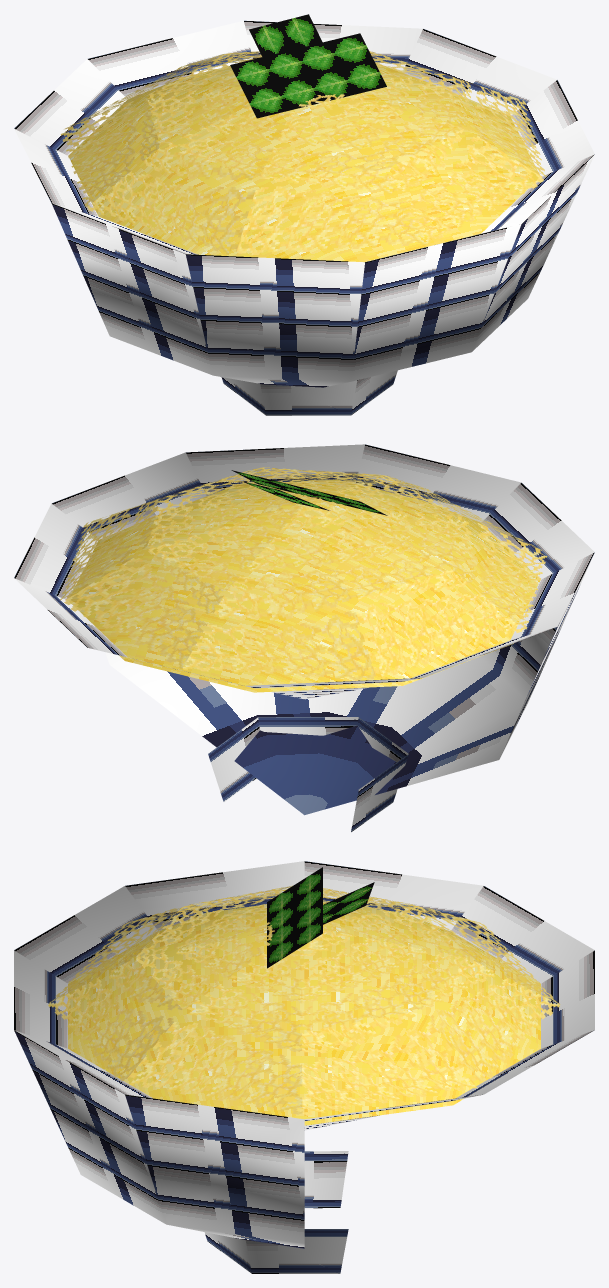
File: nikomidon.gltf
3 views of the same model, one above another, from view 1: azimuth 30°, elevation 25°; view 2: azimuth 150°, elevation 25°; view 3: azimuth 270°, elevation 25° (orthographic). The views are drawn at different scales.
Parts seen in each view (by area): view 1: nikomidon; view 2: nikomidon; view 3: nikomidon.
Part boxes in pixels (<box>): nikomidon: <box>14,14,594,415</box>; nikomidon: <box>14,444,594,831</box>; nikomidon: <box>14,861,594,1273</box>.
Bounding box in the file's own units: 0.7769 × 0.5098 × 0.7388.
Materials: 4 (4 with a texture image).
